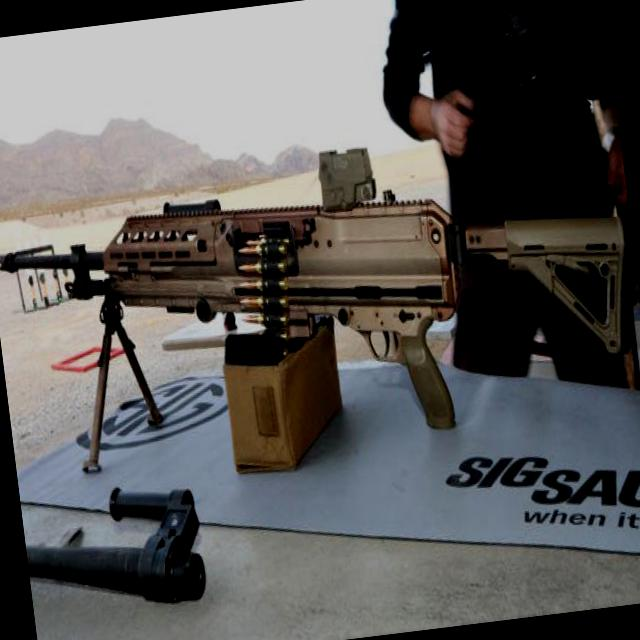long weapon: (0, 147, 639, 458)
